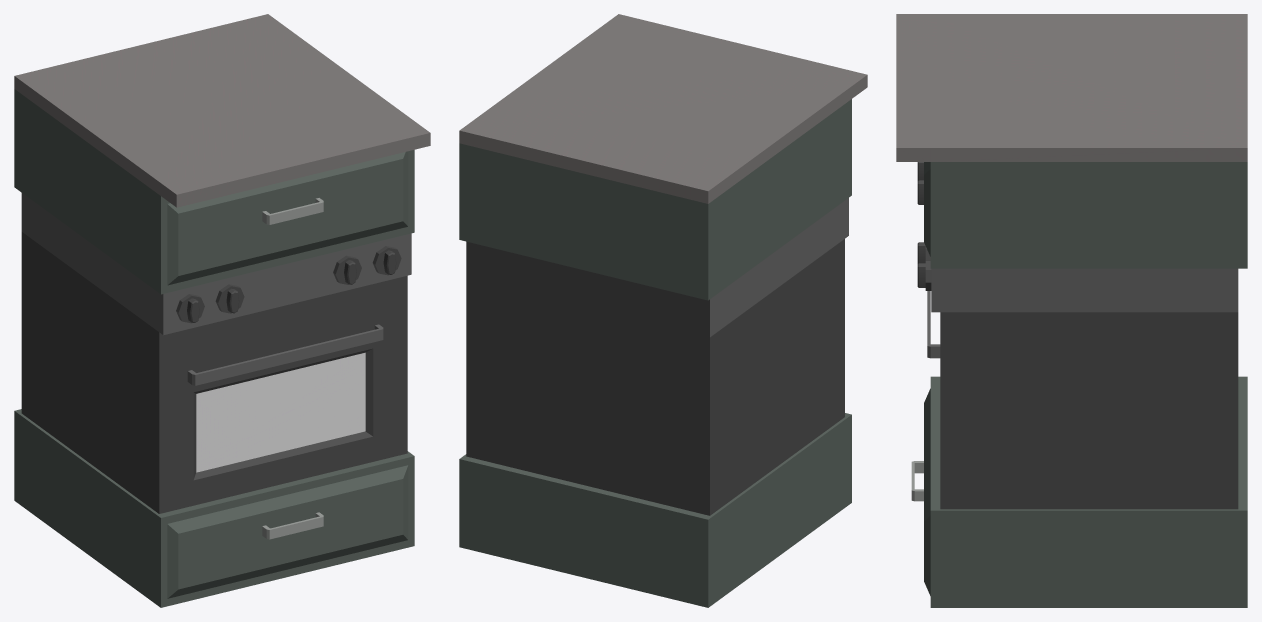
Rendered from kitchen-oven.glb.
The picture shows the model from 3 angles, left to right: view 1: azimuth 30°, elevation 25°; view 2: azimuth 150°, elevation 25°; view 3: azimuth 270°, elevation 25°; orthographic projection. The views are drawn at different scales.
Visible parts, largest first — view 1: Kitchen_Oven; view 2: Kitchen_Oven; view 3: Kitchen_Oven.
Part boxes in pixels (x1,y1,x2,y2): Kitchen_Oven: (14, 14, 430, 607); Kitchen_Oven: (459, 14, 867, 607); Kitchen_Oven: (896, 14, 1247, 607).
Size of the model in its own units: 1.01 by 1.62 by 1.12.
2 materials, 2 textured.
